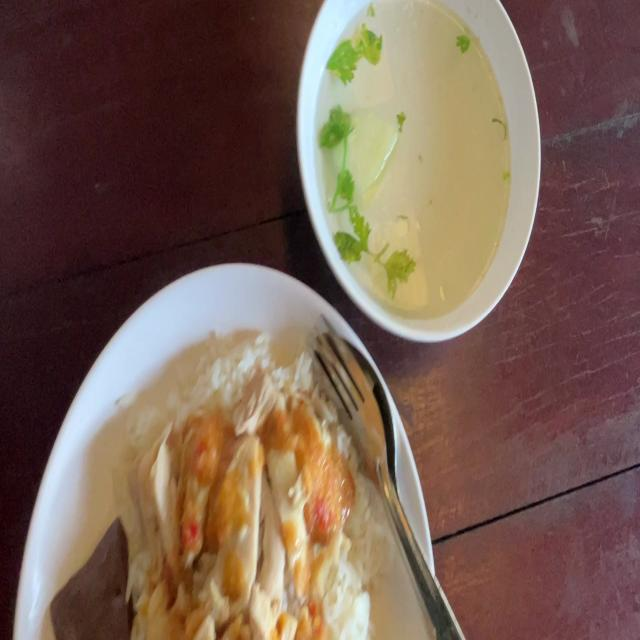chicken_rice: (147, 419, 337, 640)
noodle: (46, 509, 128, 640)
